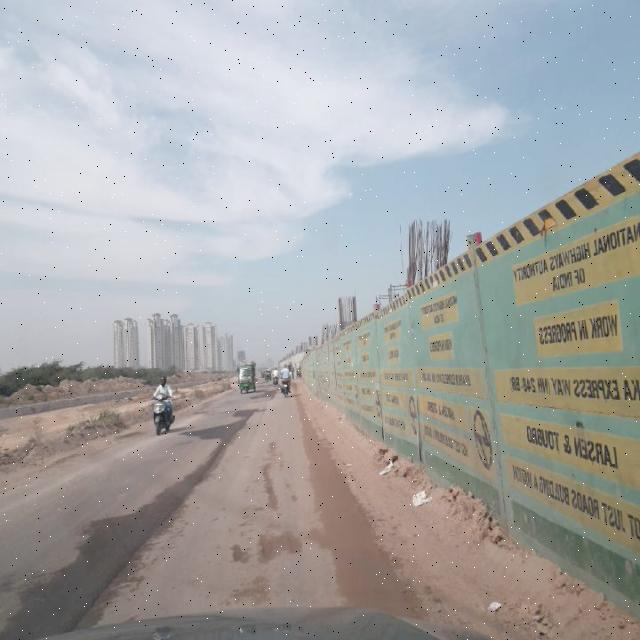D00: (79, 410, 257, 620)
